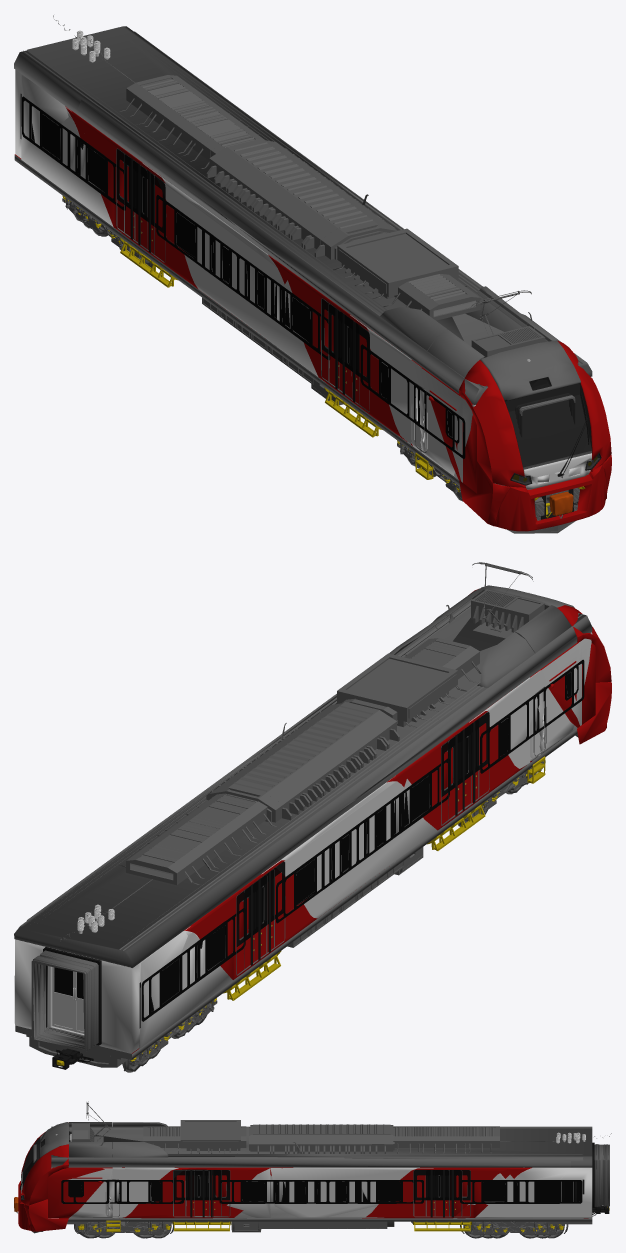
Rendered from w1_train.glb.
The picture shows the model from 3 angles, top to bottom: view 1: azimuth 30°, elevation 25°; view 2: azimuth 150°, elevation 25°; view 3: azimuth 270°, elevation 25°; orthographic projection. The views are drawn at different scales.
Parts seen in each view (by area): view 1: cab, tail, mid; view 2: cab, tail, mid; view 3: cab, mid, tail.
Part boxes in pixels (x1,y1,x2,y2): cab: (14,26,611,533); tail: (21,31,524,501); mid: (32,15,592,494); cab: (14,585,611,1072); tail: (27,605,581,1066); mid: (60,562,592,1059); cab: (14,1120,609,1238); mid: (33,1101,611,1238); tail: (69,1124,600,1238).
Size of the model in its own units: 2.9 by 4.7 by 20.69.
